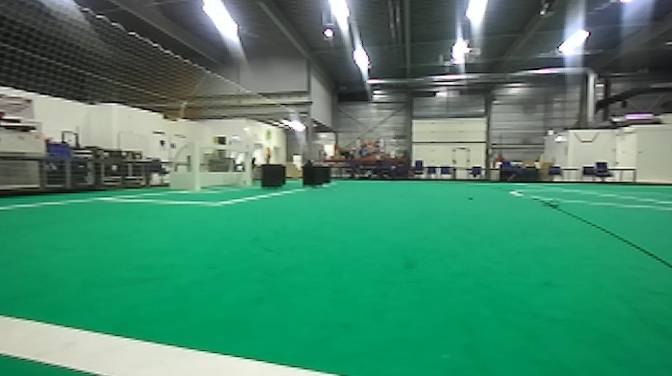goalpost: (232, 142, 255, 181), (187, 142, 204, 194)
